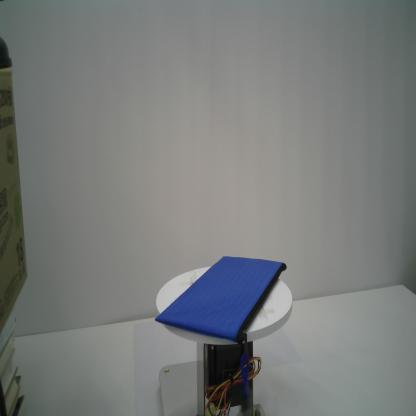Stationery: (154, 253, 289, 401)
